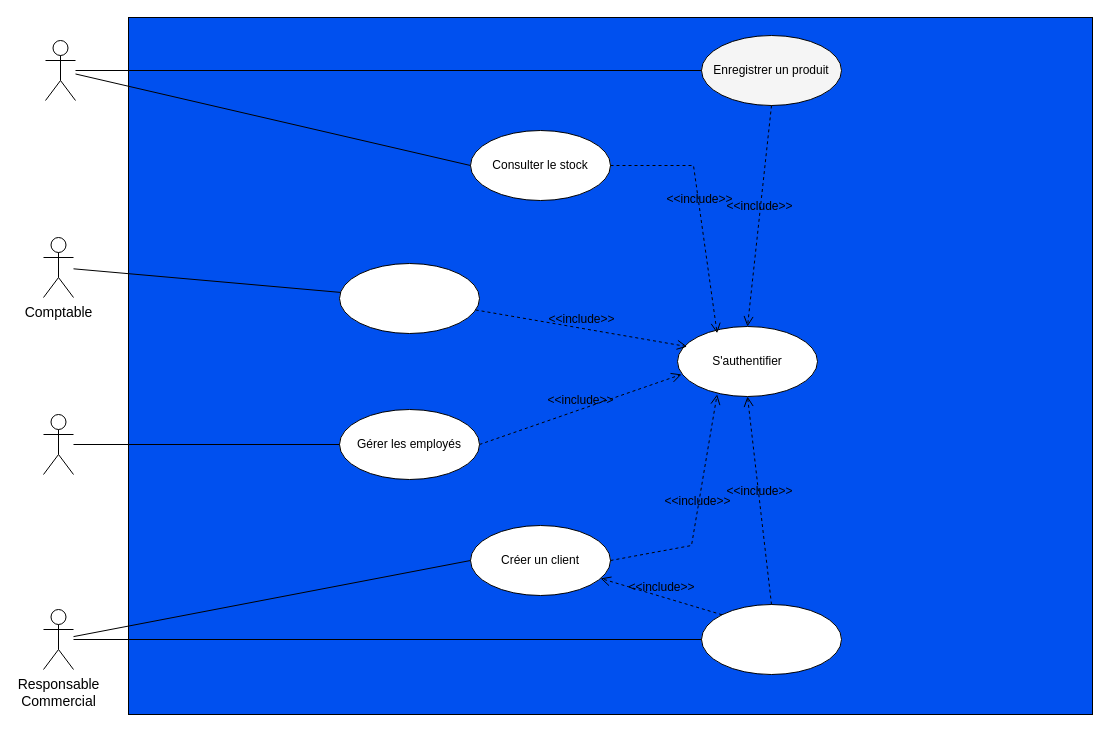
Some shapes in this 1110 by 732 pixel diagram are drawn without their labels. Here are the shapes that lost their labels. From the top down, the centre of each, then its label:
point (60, 70): Gestionnaire de stock
point (409, 298): Générer une facture
point (58, 444): Responsable RH
point (771, 639): Enregistrer une commande
